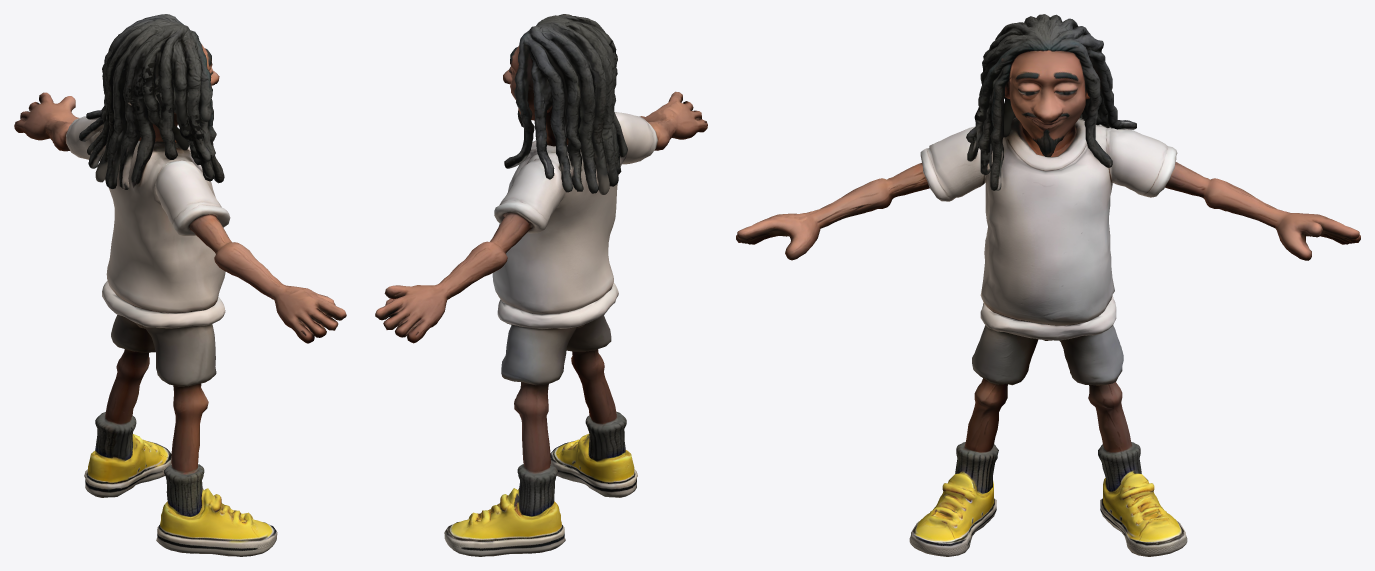
3 renders of one model, left to right at view 1: azimuth 30°, elevation 25°; view 2: azimuth 150°, elevation 25°; view 3: azimuth 270°, elevation 25°, orthographic. The views are drawn at different scales.
Parts seen in each view (by area): view 1: tripo_node_98392bb8; view 2: tripo_node_98392bb8; view 3: tripo_node_98392bb8.
Boxes of the visible parts, left/top/right/bottom form: tripo_node_98392bb8: left=14, top=14, right=346, bottom=556; tripo_node_98392bb8: left=375, top=14, right=707, bottom=556; tripo_node_98392bb8: left=736, top=14, right=1360, bottom=556.
Size of the model in its own units: 0.2211 by 0.9022 by 1.
Materials: 1 (1 with a texture image).
